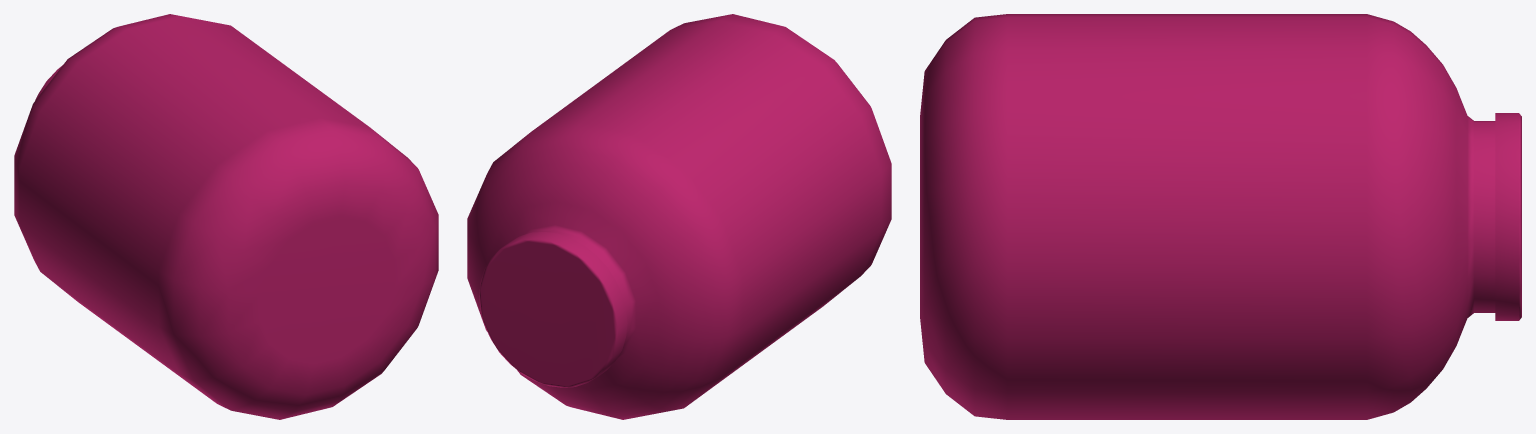
File: SM_Dishes_04.fbx
3 renders of one model, left to right at view 1: azimuth 30°, elevation 25°; view 2: azimuth 150°, elevation 25°; view 3: azimuth 270°, elevation 25°, orthographic. The views are drawn at different scales.
Parts seen in each view (by area): view 1: SM_Dishes_04; view 2: SM_Dishes_04; view 3: SM_Dishes_04.
Part boxes in pixels (<box>): SM_Dishes_04: <box>14,14,438,419</box>; SM_Dishes_04: <box>467,14,891,419</box>; SM_Dishes_04: <box>920,14,1521,419</box>.
Bounding box in the file's own units: 26.68 × 26.67 × 39.85.
